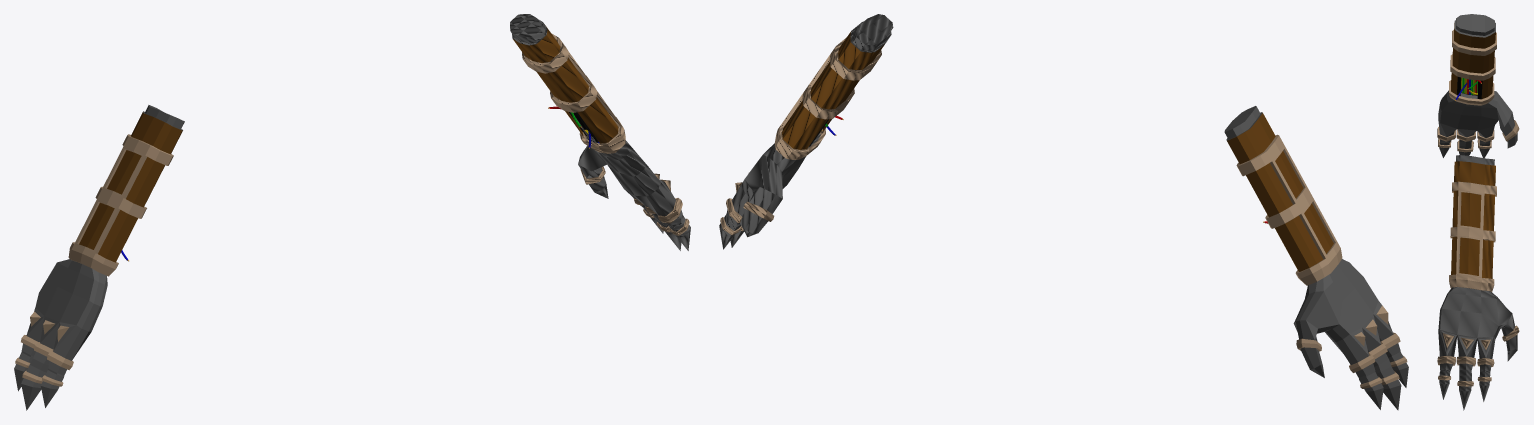
File: arms.fbx
3 renders of one model, left to right at view 1: azimuth 30°, elevation 25°; view 2: azimuth 150°, elevation 25°; view 3: azimuth 270°, elevation 25°, orthographic. The views are drawn at different scales.
Parts seen in each view (by area): view 1: Cube.001, Cube; view 2: Cube.001, Cube; view 3: Cube, Cube.001.
Boxes of the visible parts, left/top/right/bottom form: Cube.001: left=14, top=105, right=184, bottom=410; Cube: left=510, top=14, right=690, bottom=250; Cube.001: left=1224, top=106, right=1408, bottom=410; Cube: left=719, top=14, right=893, bottom=249; Cube: left=1437, top=155, right=1519, bottom=410; Cube.001: left=1437, top=14, right=1519, bottom=158.
Bounding box in the file's own units: 1729 × 656 × 240.
